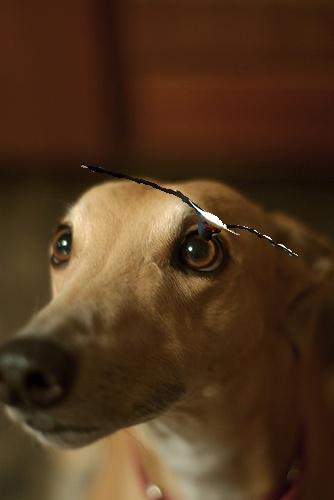tampered: (81, 165, 298, 257)
